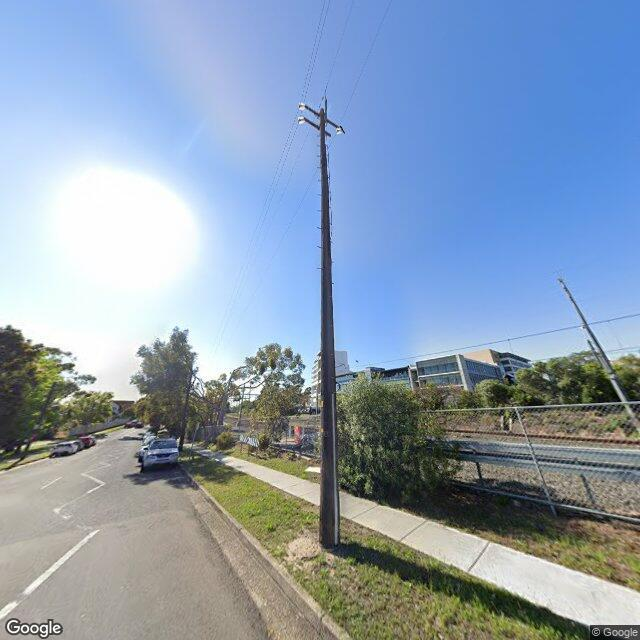HV-transmission: (297, 95, 345, 136)
crossarm: (305, 105, 338, 128), (304, 116, 331, 136)
timber-pole: (558, 278, 640, 431), (320, 108, 340, 548), (178, 368, 192, 451)
